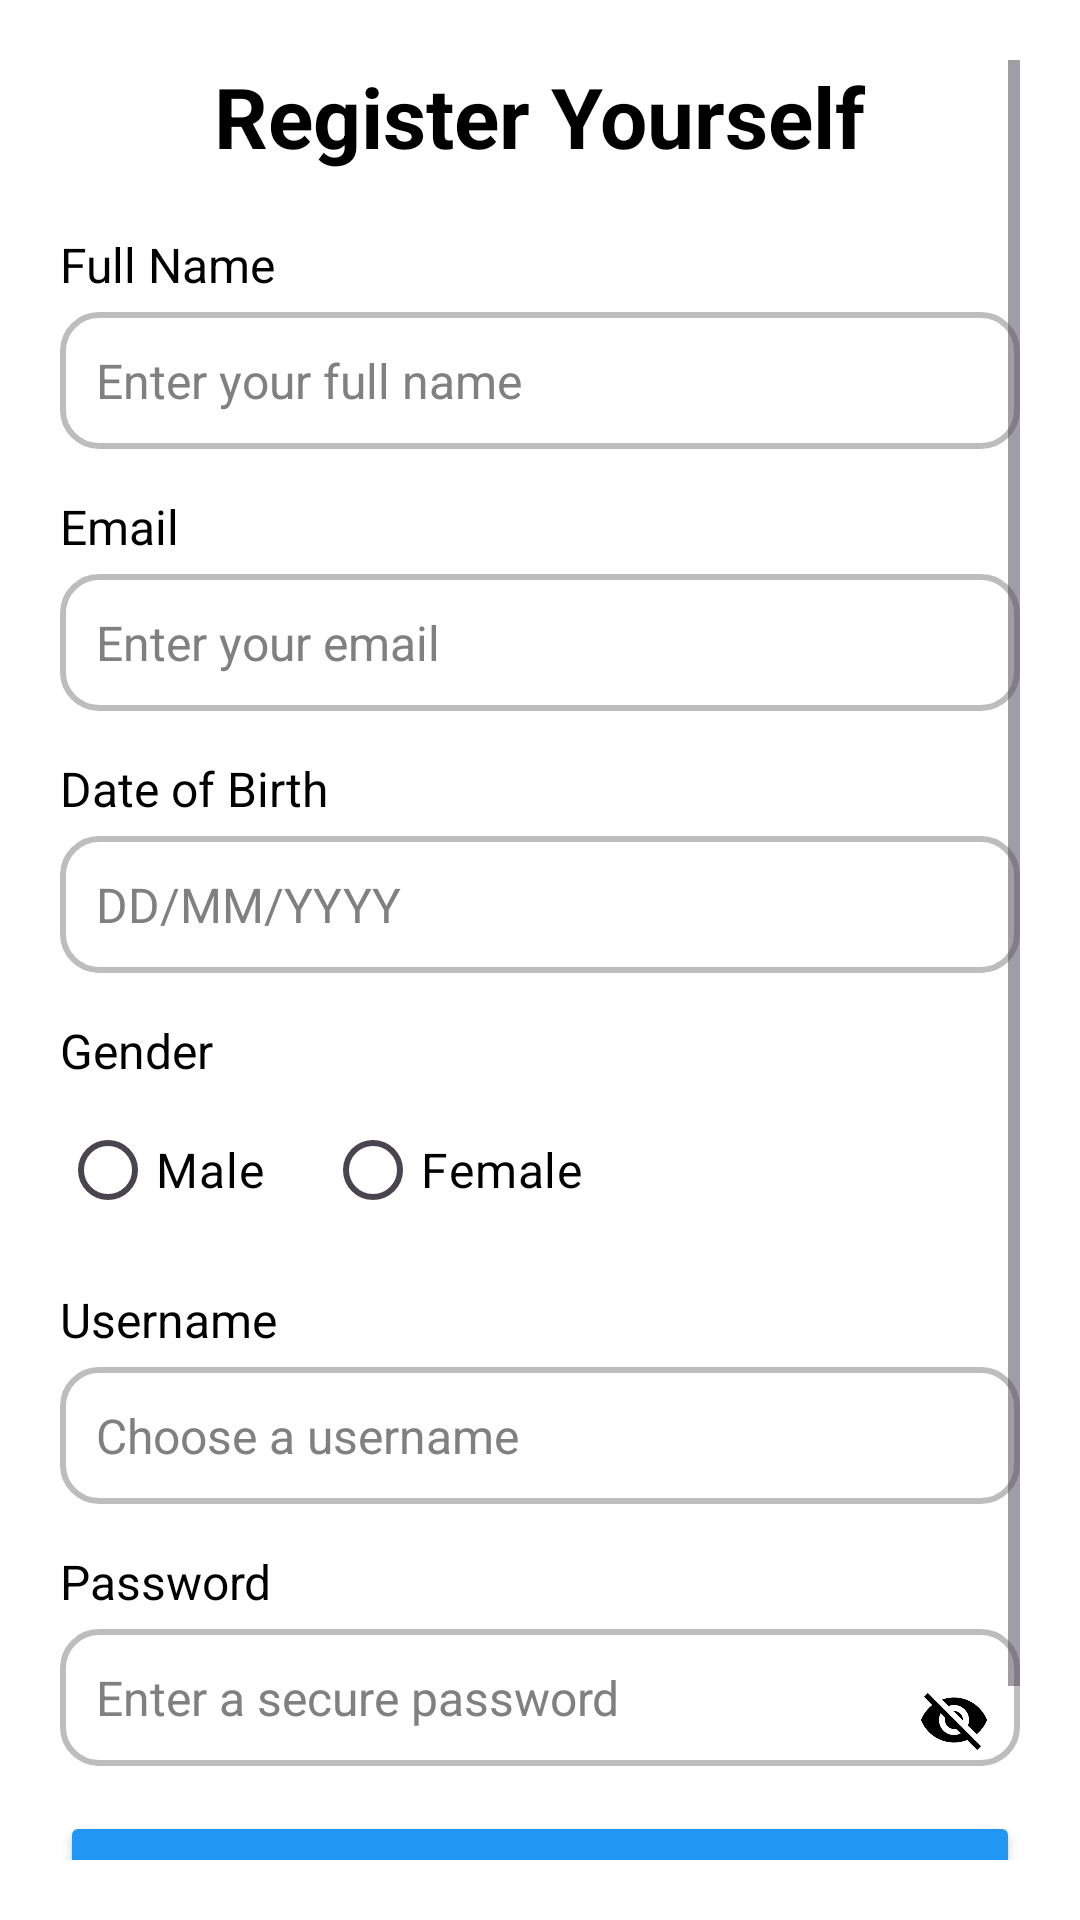

Named icons in this screenshot (1080px x 1920px) and their bounding boxes, region(x1, y1, x2, y2):
visibility off: region(921, 1693, 987, 1750)
